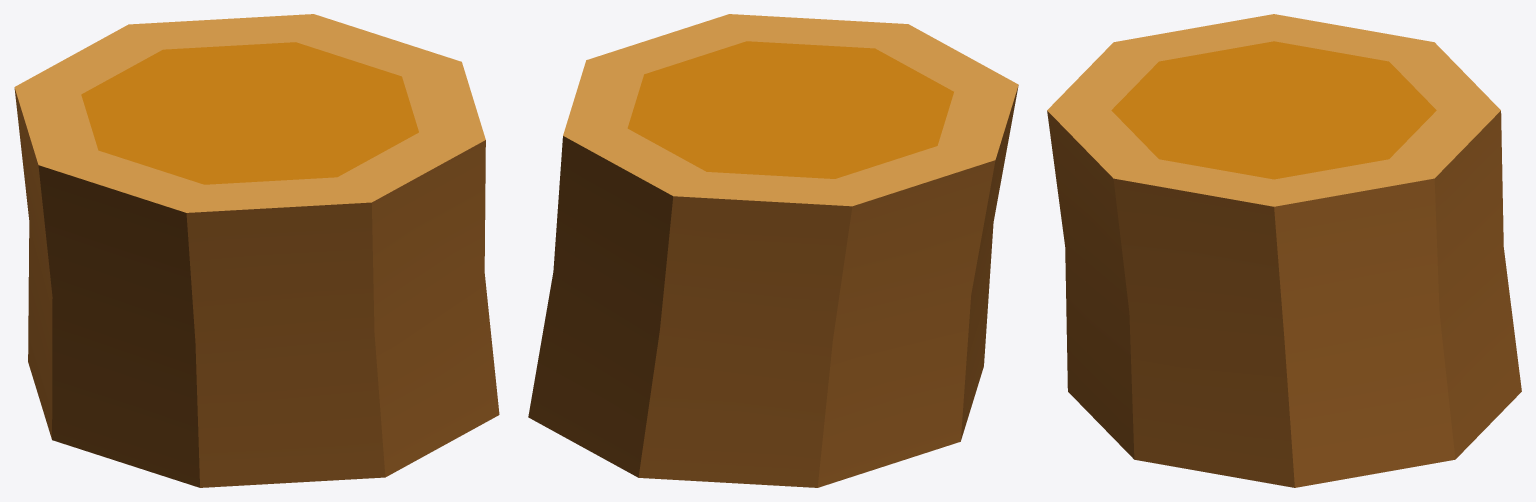
Rendered from SM_WoodenBarkChari_02.fbx.
The picture shows the model from 3 angles, left to right: view 1: azimuth 30°, elevation 25°; view 2: azimuth 150°, elevation 25°; view 3: azimuth 270°, elevation 25°; orthographic projection. The views are drawn at different scales.
Parts seen in each view (by area): view 1: Bark_02; view 2: Bark_02; view 3: Bark_02.
Part boxes in pixels (bbox=[...]): Bark_02: bbox=[14, 14, 499, 487]; Bark_02: bbox=[528, 14, 1018, 487]; Bark_02: bbox=[1047, 14, 1521, 487].
Size of the model in its own units: 60 by 37 by 59.
